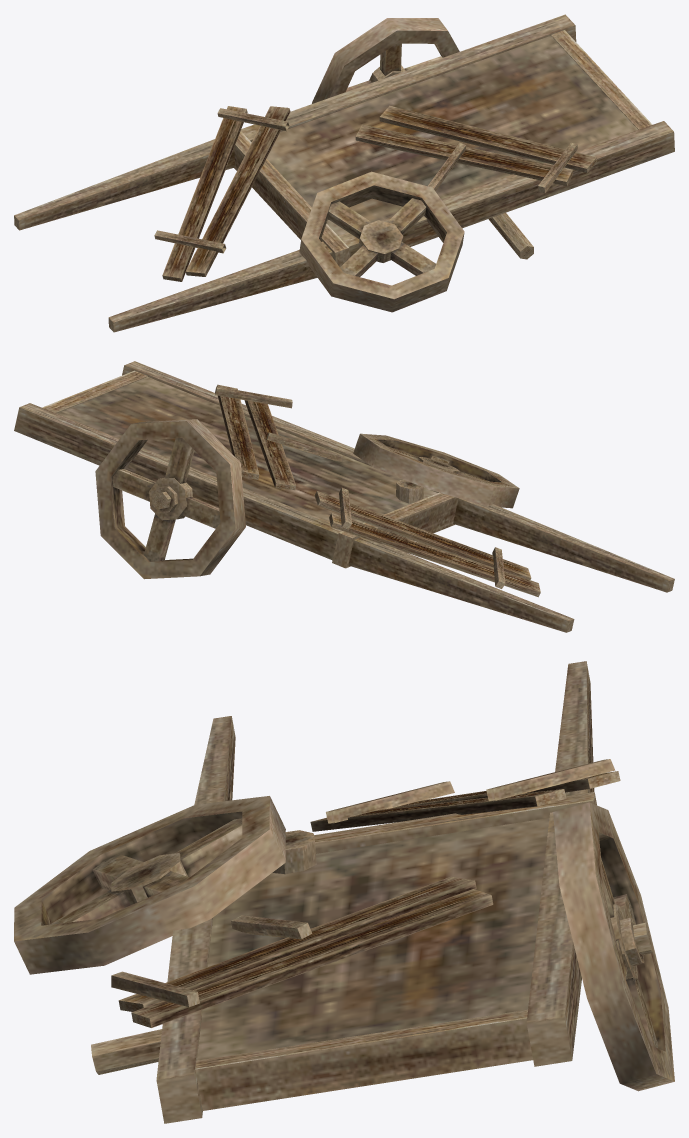
The model's file is desert_cart01.fbx.
3 renders of one model, top to bottom at view 1: azimuth 30°, elevation 25°; view 2: azimuth 150°, elevation 25°; view 3: azimuth 270°, elevation 25°, orthographic. The views are drawn at different scales.
Visible parts, largest first — view 1: Bip01; view 2: Bip01; view 3: Bip01.
Part boxes in pixels (left/top/right/bottom): Bip01: left=14, top=14, right=674, bottom=332; Bip01: left=14, top=361, right=674, bottom=632; Bip01: left=14, top=661, right=674, bottom=1123.
Bounding box in the file's own units: 4.83 × 1.25 × 2.73.
